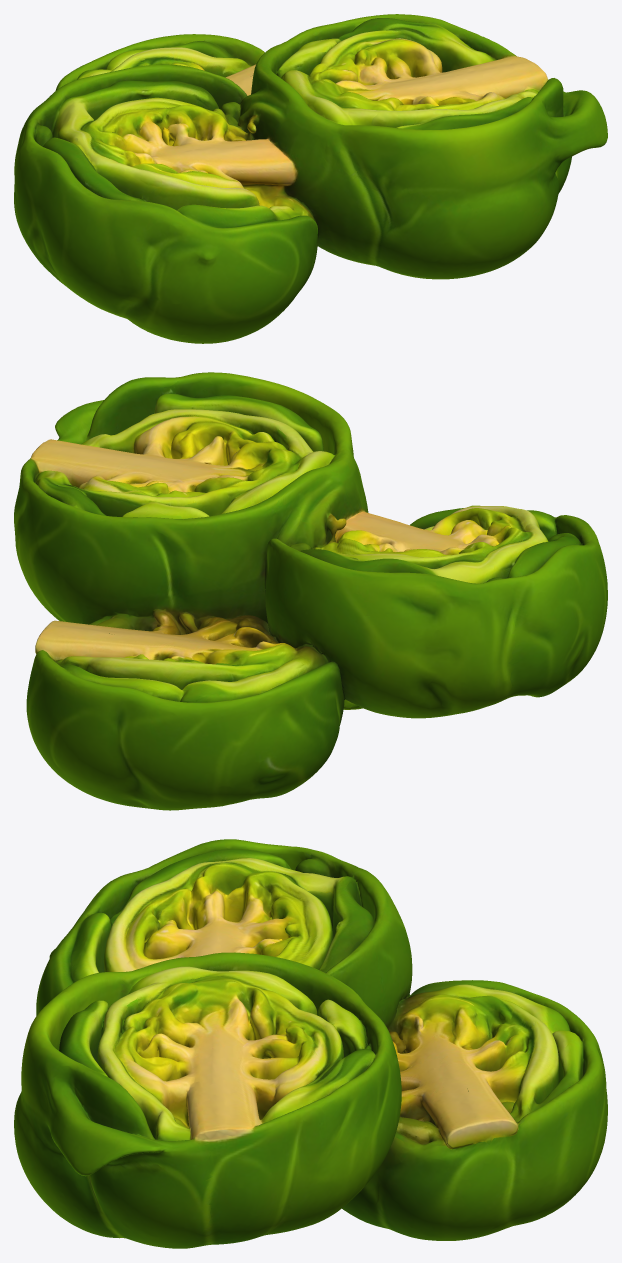
The model's file is tripo_convert_25998a49-80e7-445f-b12f-700952c9a7f1.fbx.
The picture shows the model from 3 angles, top to bottom: view 1: azimuth 30°, elevation 25°; view 2: azimuth 150°, elevation 25°; view 3: azimuth 270°, elevation 25°; orthographic projection. The views are drawn at different scales.
Parts seen in each view (by area): view 1: tripo_node_25998a49; view 2: tripo_node_25998a49; view 3: tripo_node_25998a49.
Boxes of the visible parts, x1=… form: tripo_node_25998a49: x1=14, y1=14, x2=607, y2=343; tripo_node_25998a49: x1=14, y1=372, x2=607, y2=810; tripo_node_25998a49: x1=14, y1=839, x2=607, y2=1248.
Size of the model in its own units: 1 by 0.3921 by 0.8829.
